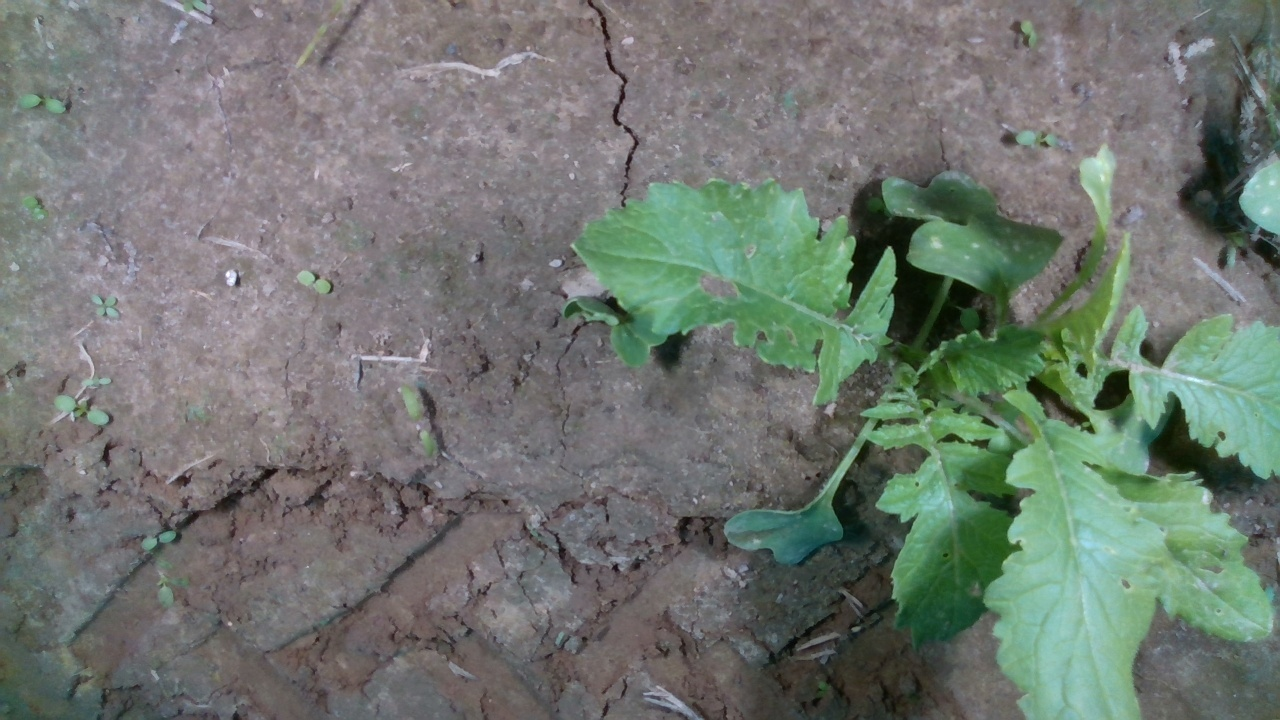weed: (397, 379, 440, 463), (52, 394, 111, 426), (18, 92, 69, 114), (139, 527, 178, 552), (295, 268, 332, 294), (1013, 128, 1061, 148), (88, 293, 121, 320), (1019, 17, 1039, 51), (22, 195, 48, 220), (79, 374, 112, 388)
